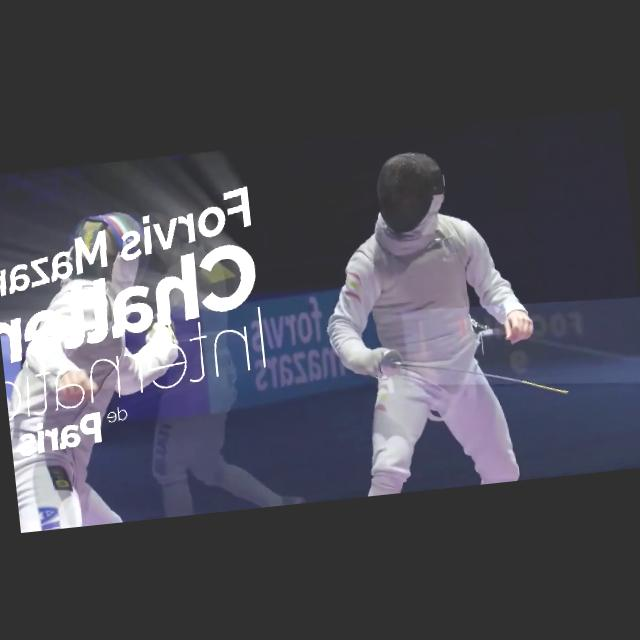blade: (372, 331, 572, 422)
